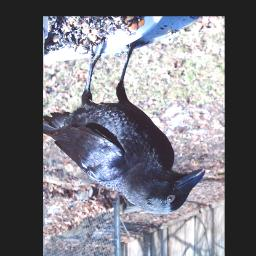Crow: (43, 37, 206, 214)
